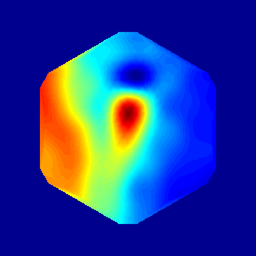ship: (125, 65, 144, 95)
wave: (116, 87, 140, 138)
